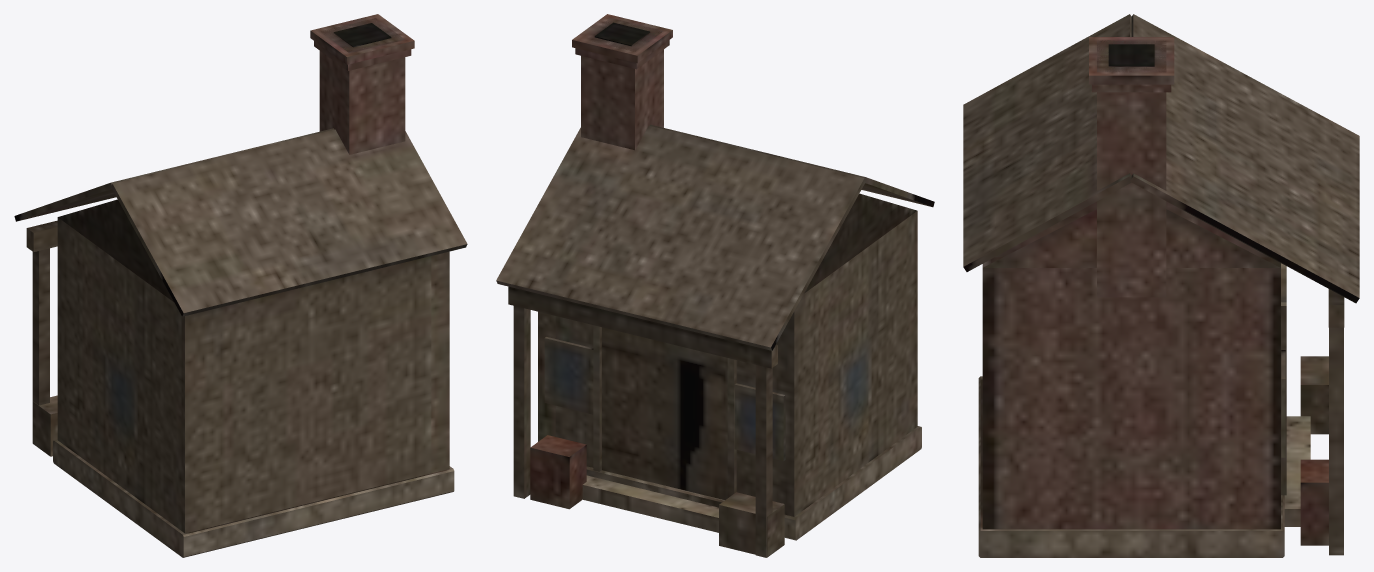
The model's file is b_workshop_far.glb.
3 views of the same model, side by side, from view 1: azimuth 30°, elevation 25°; view 2: azimuth 150°, elevation 25°; view 3: azimuth 270°, elevation 25° (orthographic). The views are drawn at different scales.
Visible parts, largest first — view 1: b_workshop_far; view 2: b_workshop_far; view 3: b_workshop_far.
Part boxes in pixels (x1,y1,x2,y2): b_workshop_far: (14,14,467,557); b_workshop_far: (496,14,934,557); b_workshop_far: (963,14,1359,557).
Bounding box in the file's own units: 3.87 × 5.41 × 3.99.
1 material, 1 textured.
